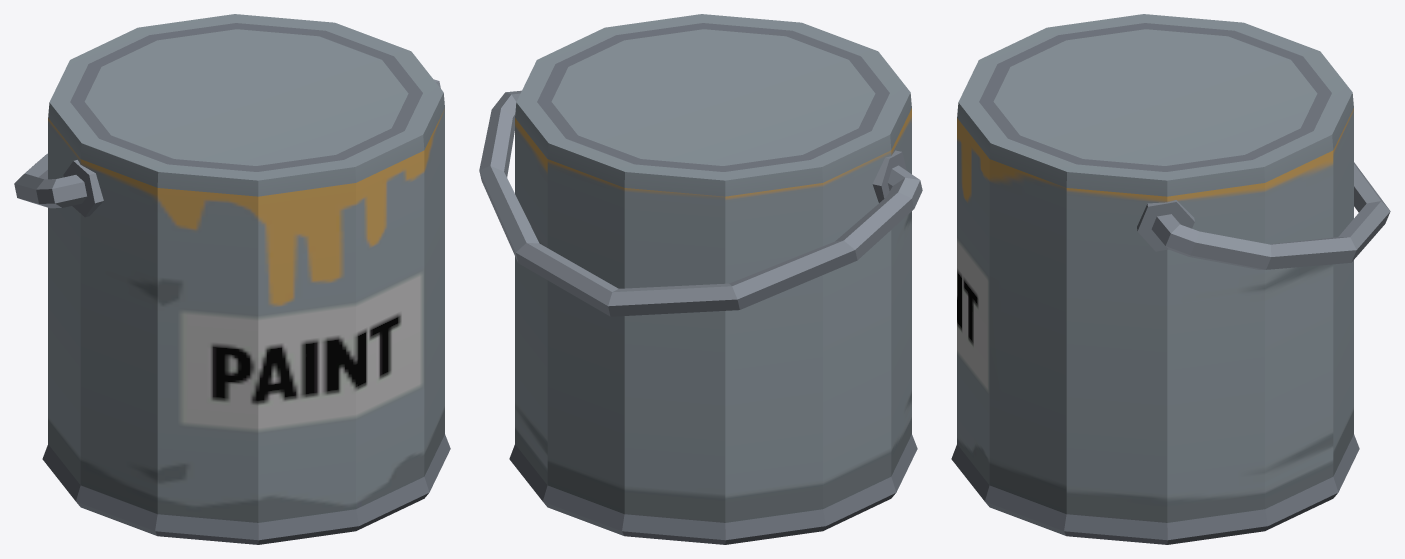
File: SM_Prop_PaintCan_02.obj
3 renders of one model, left to right at view 1: azimuth 30°, elevation 25°; view 2: azimuth 150°, elevation 25°; view 3: azimuth 270°, elevation 25°, orthographic.
Visible parts, largest first — view 1: SM_Prop_PaintCan_02_0; view 2: SM_Prop_PaintCan_02_0; view 3: SM_Prop_PaintCan_02_0.
Boxes of the visible parts, x1,y1,x2,y2 form: SM_Prop_PaintCan_02_0: [14, 14, 450, 544]; SM_Prop_PaintCan_02_0: [479, 14, 922, 544]; SM_Prop_PaintCan_02_0: [951, 14, 1390, 544].
Bounding box in the file's own units: 0.348 × 0.2976 × 0.3257.
1 material, 1 textured.
